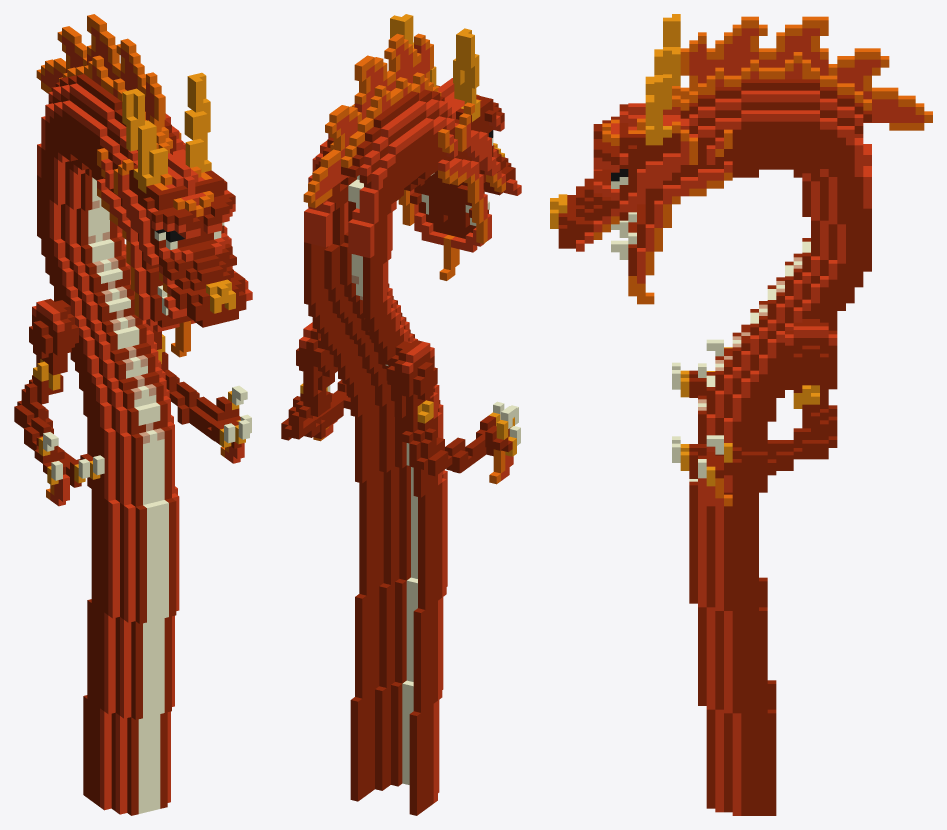
File: Drake.obj
3 views of the same model, side by side, from view 1: azimuth 30°, elevation 25°; view 2: azimuth 150°, elevation 25°; view 3: azimuth 270°, elevation 25° (orthographic). The views are drawn at different scales.
Bounding box in the file's own units: 2.7 × 9.9 × 4.4.
1 material, 1 textured.
